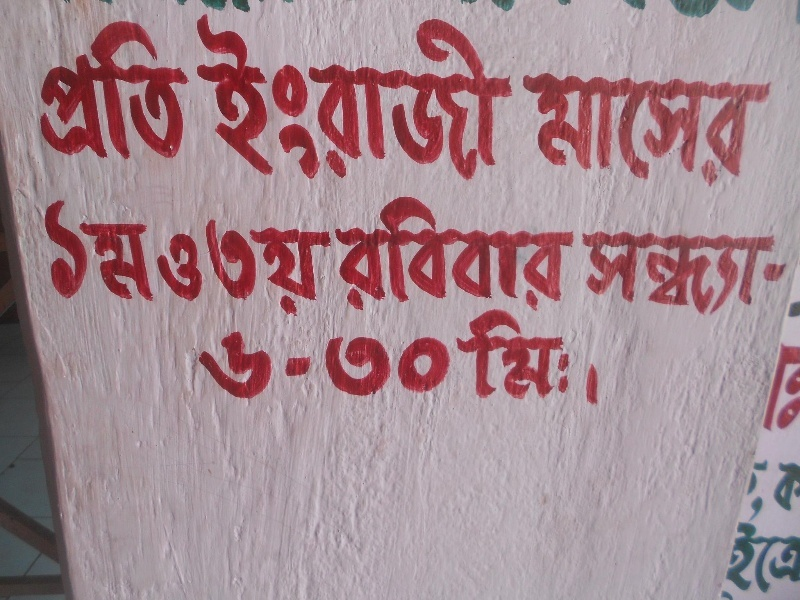text: (193, 13, 208, 181), (209, 13, 224, 181), (225, 13, 240, 181), (241, 13, 256, 181), (257, 13, 272, 181), (273, 13, 288, 181), (289, 13, 304, 181), (305, 13, 320, 181), (321, 13, 336, 181), (337, 13, 352, 181), (353, 13, 368, 181), (369, 13, 384, 181), (385, 13, 400, 181), (401, 13, 416, 181), (417, 13, 432, 181), (433, 13, 448, 181), (449, 13, 464, 181), (465, 13, 480, 181), (481, 13, 496, 181), (497, 13, 512, 181), (33, 15, 48, 165), (49, 15, 64, 165), (65, 15, 80, 165), (81, 15, 96, 165), (97, 15, 112, 165), (113, 15, 128, 165), (129, 15, 144, 165), (145, 15, 160, 165), (161, 15, 176, 165), (177, 15, 192, 165), (529, 71, 544, 194), (545, 71, 560, 194), (561, 71, 576, 194), (577, 71, 592, 194), (593, 71, 608, 194), (609, 71, 624, 194), (625, 71, 640, 194), (641, 71, 656, 194), (657, 71, 672, 194), (673, 71, 688, 194), (689, 71, 704, 194), (705, 71, 720, 194), (721, 71, 736, 194), (737, 71, 752, 194), (753, 71, 768, 194), (49, 197, 64, 317), (65, 197, 80, 317), (81, 197, 96, 317), (97, 197, 112, 317), (113, 197, 128, 317), (129, 197, 144, 317), (145, 197, 160, 317), (161, 197, 176, 317), (177, 197, 192, 317), (193, 197, 208, 317), (209, 197, 224, 317), (225, 197, 240, 317), (241, 197, 256, 317), (257, 197, 272, 317), (273, 197, 288, 317), (289, 197, 304, 317), (305, 197, 320, 317), (337, 195, 352, 314), (353, 195, 368, 314), (369, 195, 384, 314), (385, 195, 400, 314), (401, 195, 416, 314), (417, 195, 432, 314), (433, 195, 448, 314), (449, 195, 464, 314), (465, 195, 480, 314), (481, 195, 496, 314), (497, 195, 512, 314), (513, 195, 528, 314), (529, 195, 544, 314), (545, 195, 560, 314), (561, 195, 576, 314), (769, 327, 784, 434), (513, 13, 522, 181), (193, 15, 203, 165), (193, 309, 208, 408), (209, 309, 224, 408), (225, 309, 240, 408), (241, 309, 256, 408), (257, 309, 272, 408), (273, 309, 288, 408), (289, 309, 304, 408), (305, 309, 320, 408), (321, 309, 336, 408), (337, 309, 352, 408), (353, 309, 368, 408), (369, 309, 384, 408), (385, 309, 400, 408), (401, 309, 416, 408), (417, 309, 432, 408), (433, 309, 448, 408), (449, 309, 464, 408), (465, 309, 480, 408), (481, 309, 496, 408), (497, 309, 512, 408), (513, 309, 528, 408), (529, 309, 544, 408), (545, 309, 560, 408), (561, 309, 576, 408), (593, 229, 608, 324), (609, 229, 624, 324), (625, 229, 640, 324), (641, 229, 656, 324), (657, 229, 672, 324), (673, 229, 688, 324), (689, 229, 704, 324), (705, 229, 720, 324), (721, 229, 736, 324), (737, 229, 752, 324), (753, 229, 768, 324), (769, 229, 784, 324), (785, 327, 798, 434), (321, 197, 331, 317), (737, 450, 752, 529), (753, 450, 768, 529), (769, 450, 784, 529), (737, 526, 752, 597), (753, 526, 768, 597), (769, 526, 784, 597), (785, 450, 798, 529), (785, 526, 799, 597), (582, 229, 592, 324), (187, 13, 192, 181), (725, 526, 736, 597), (785, 229, 793, 324), (522, 71, 528, 194), (42, 197, 48, 317), (577, 195, 583, 314), (579, 359, 592, 404), (785, 288, 800, 324), (763, 327, 768, 434), (29, 15, 32, 165), (593, 359, 602, 404), (577, 309, 581, 408), (769, 71, 772, 194), (449, 2, 464, 18), (465, 2, 480, 18), (481, 2, 496, 18), (497, 2, 512, 18), (513, 2, 528, 18), (529, 2, 544, 18), (545, 2, 560, 18), (561, 2, 576, 18), (577, 2, 592, 18), (593, 2, 608, 18), (609, 2, 624, 18), (625, 2, 640, 18), (641, 2, 656, 18), (657, 2, 672, 18), (673, 2, 688, 18), (689, 2, 704, 18), (705, 2, 720, 18), (721, 2, 736, 18), (737, 2, 752, 18), (209, 2, 224, 15), (225, 2, 240, 15), (241, 2, 256, 15), (196, 2, 208, 15), (753, 2, 757, 18), (257, 2, 260, 15)
